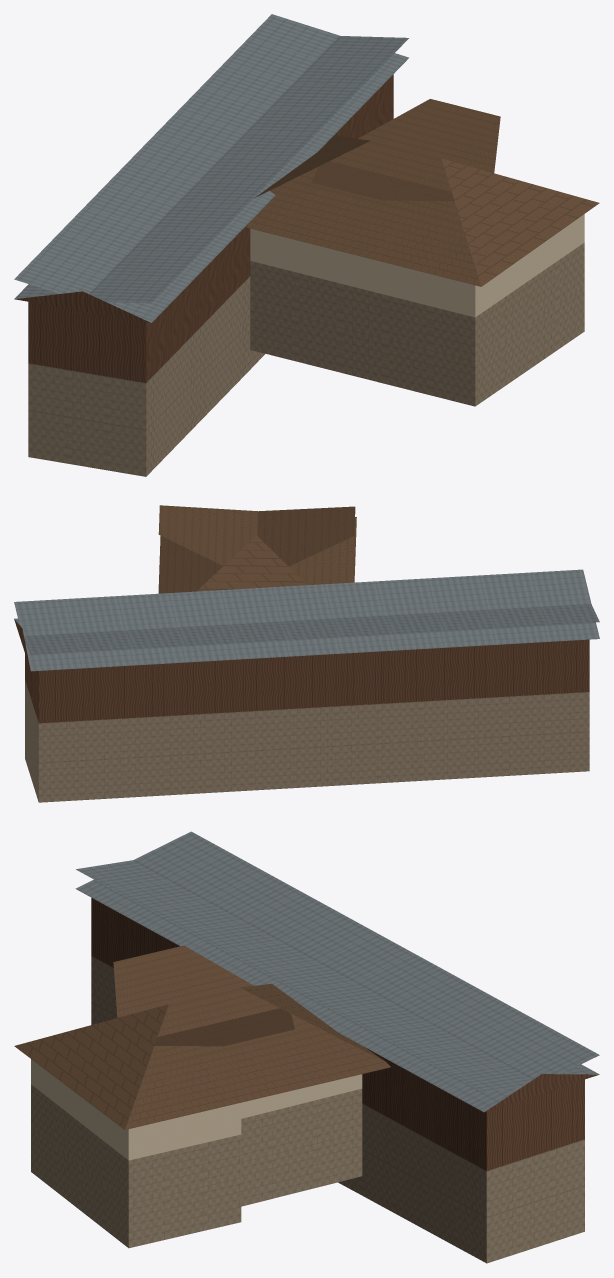
The model's file is bld_c10_9_500.gltf.
3 views of the same model, one above another, from view 1: azimuth 30°, elevation 25°; view 2: azimuth 150°, elevation 25°; view 3: azimuth 270°, elevation 25° (orthographic). The views are drawn at different scales.
Visible parts, largest first — view 1: bld_c10_9_500; view 2: bld_c10_9_500; view 3: bld_c10_9_500.
Boxes of the visible parts, box(x1,y1,x2,y2) form: bld_c10_9_500: box(14, 14, 599, 476); bld_c10_9_500: box(14, 505, 599, 802); bld_c10_9_500: box(14, 831, 599, 1263).
Bounding box in the file's own units: 29.2 × 10.5 × 27.24.
6 materials, 6 textured.
